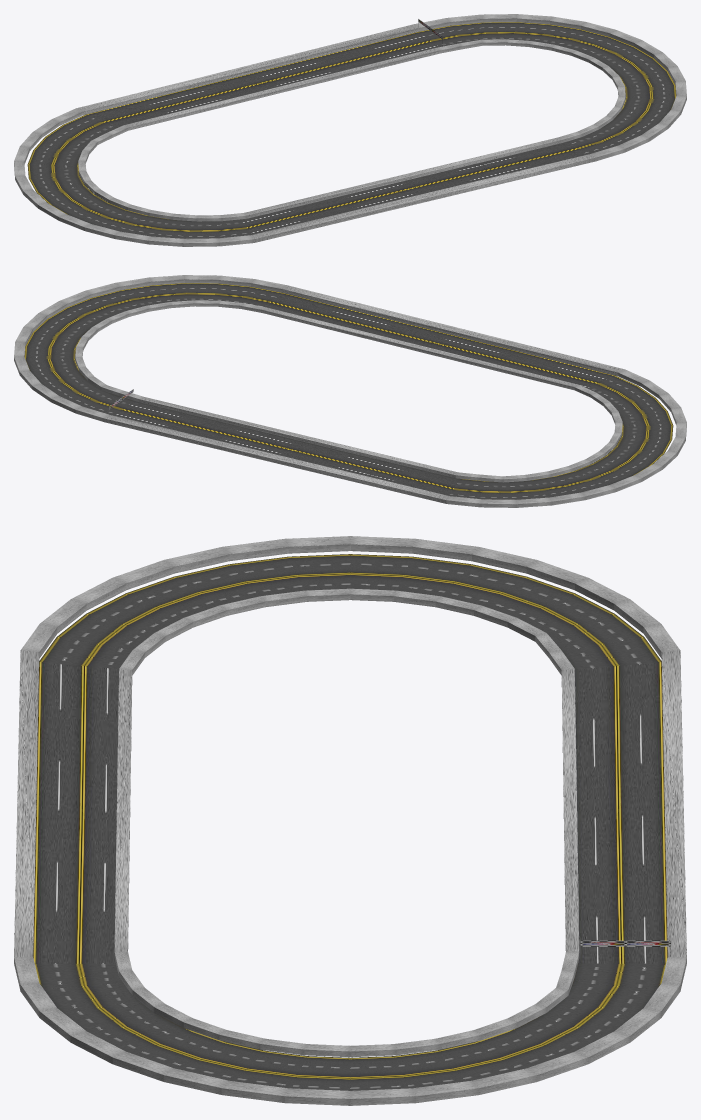
The model's file is track3.obj.
3 renders of one model, top to bottom at view 1: azimuth 30°, elevation 25°; view 2: azimuth 150°, elevation 25°; view 3: azimuth 270°, elevation 25°, orthographic. The views are drawn at different scales.
Visible parts, largest first — view 1: Circle.002, Circle.000_Circle.000, Circle.002_Circle.000; view 2: Circle.002, Circle.000_Circle.000, Circle.002_Circle.000; view 3: Circle.002, Circle.000_Circle.000, Circle.002_Circle.000.
Part boxes in pixels (x1,y1,x2,y2): Circle.002: (27,22,676,238); Circle.000_Circle.000: (14,14,686,246); Circle.002_Circle.000: (78,39,625,221); Circle.002: (24,283,673,499); Circle.000_Circle.000: (14,275,686,507); Circle.002_Circle.000: (75,300,622,482); Circle.002: (33,554,667,1090); Circle.000_Circle.000: (14,536,686,1105); Circle.002_Circle.000: (114,588,579,1057).
Bounding box in the file's own units: 211 × 4 × 106.
Materials: 7 (7 with a texture image).
